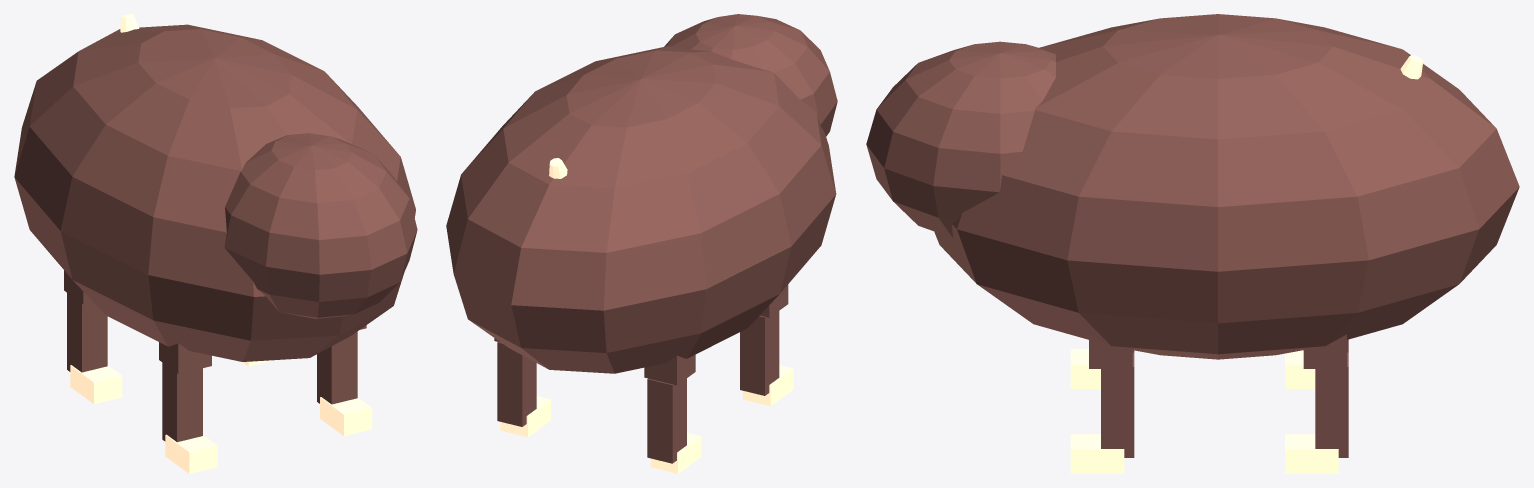
Rendered from Chaser.fbx.
3 views of the same model, side by side, from view 1: azimuth 30°, elevation 25°; view 2: azimuth 150°, elevation 25°; view 3: azimuth 270°, elevation 25° (orthographic). The views are drawn at different scales.
Parts seen in each view (by area): view 1: TorsoM, HeadM, LegLF_LoMesh, LegLB_LoMesh, LegRF_LoMesh, ClawLB, ClawLF, ClawRF, LegLF_UpMesh; view 2: TorsoM, HeadM, LegLB_LoMesh, LegLF_LoMesh, LegRB_LoMesh, LegLB_UpMesh, ClawLB, ClawLF, ClawRB; view 3: TorsoM, HeadM, LegRF_LoMesh, LegRB_LoMesh, ClawRF, ClawRB, LegRF_UpMesh, LegRB_UpMesh, ClawLF, ClawLB.
Part boxes in pixels (x1=…): TorsoM: x1=14, y1=24, x2=415, y2=361; HeadM: x1=224, y1=133, x2=417, y2=318; LegLF_LoMesh: x1=162, y1=362, x2=202, y2=442; LegLB_LoMesh: x1=67, y1=293, x2=107, y2=372; LegRF_LoMesh: x1=317, y1=331, x2=357, y2=404; ClawLB: x1=70, y1=365, x2=122, y2=403; ClawLF: x1=165, y1=434, x2=217, y2=473; ClawRF: x1=320, y1=397, x2=372, y2=435; LegLF_UpMesh: x1=159, y1=342, x2=211, y2=373; TorsoM: x1=446, y1=46, x2=836, y2=373; HeadM: x1=664, y1=14, x2=837, y2=136; LegLB_LoMesh: x1=647, y1=378, x2=686, y2=463; LegLF_LoMesh: x1=740, y1=311, x2=779, y2=395; LegRB_LoMesh: x1=497, y1=342, x2=536, y2=426; LegLB_UpMesh: x1=644, y1=354, x2=695, y2=385; ClawLB: x1=650, y1=432, x2=701, y2=473; ClawLF: x1=743, y1=365, x2=793, y2=406; ClawRB: x1=500, y1=396, x2=550, y2=437; TorsoM: x1=934, y1=14, x2=1519, y2=359; HeadM: x1=866, y1=41, x2=1055, y2=237; LegRF_LoMesh: x1=1101, y1=352, x2=1134, y2=457; LegRB_LoMesh: x1=1315, y1=352, x2=1348, y2=457; ClawRF: x1=1070, y1=434, x2=1124, y2=473; ClawRB: x1=1285, y1=434, x2=1338, y2=473; LegRF_UpMesh: x1=1089, y1=334, x2=1132, y2=368; LegRB_UpMesh: x1=1303, y1=334, x2=1346, y2=368; ClawLF: x1=1070, y1=349, x2=1100, y2=388; ClawLB: x1=1285, y1=350, x2=1315, y2=388.
Bounding box in the file's own units: 120 × 128 × 195.
